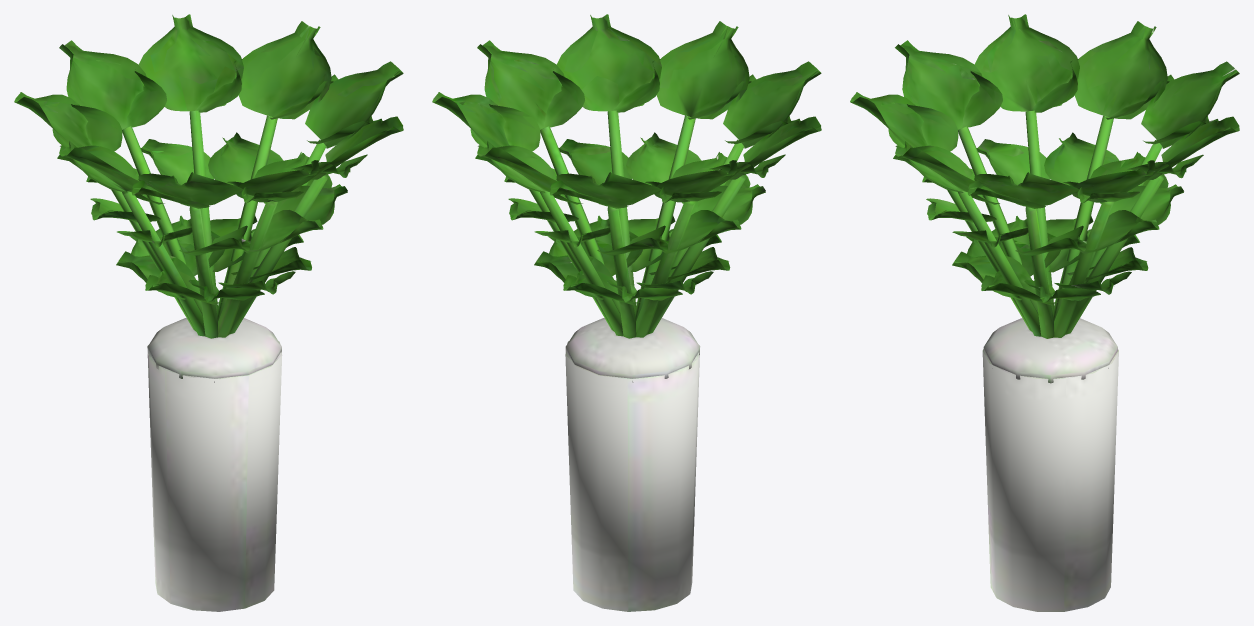
The model's file is crop_daikon.glb.
3 renders of one model, left to right at view 1: azimuth 30°, elevation 25°; view 2: azimuth 150°, elevation 25°; view 3: azimuth 270°, elevation 25°, orthographic.
Parts seen in each view (by area): view 1: crop_daikon, fruit; view 2: crop_daikon, fruit; view 3: crop_daikon, fruit.
Part boxes in pixels (x1,y1,x2,y2): crop_daikon: (14, 14, 403, 338); fruit: (147, 318, 282, 611); crop_daikon: (432, 14, 821, 338); fruit: (565, 318, 700, 611); crop_daikon: (850, 14, 1239, 338); fruit: (982, 318, 1118, 611).
Size of the model in its own units: 0.1972 by 0.2719 by 0.1943.
1 material, 1 textured.
